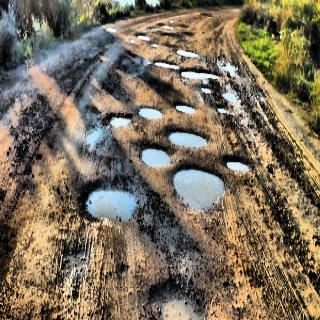pothole: (109, 75, 239, 154), (76, 155, 146, 234), (144, 258, 218, 320), (124, 18, 205, 66), (173, 162, 227, 212)
